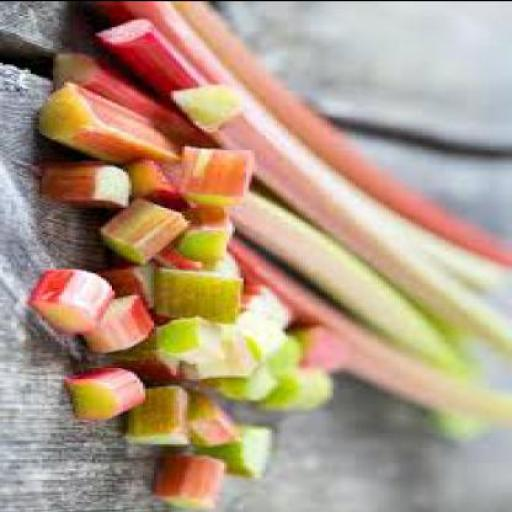biodegradable: (36, 1, 510, 437), (100, 196, 199, 257), (31, 266, 117, 332), (154, 263, 246, 322), (179, 140, 258, 208), (41, 155, 137, 206), (123, 380, 196, 444), (72, 363, 154, 419), (81, 290, 157, 346), (232, 285, 294, 351), (159, 449, 232, 505), (201, 423, 280, 473), (92, 257, 162, 313), (179, 203, 238, 268), (114, 324, 184, 378), (260, 365, 338, 409), (187, 384, 244, 443), (196, 328, 266, 376), (129, 155, 190, 206), (165, 312, 226, 360), (302, 320, 361, 367), (216, 365, 280, 398), (263, 331, 308, 371), (154, 242, 202, 274), (168, 358, 210, 384), (208, 251, 250, 276)
